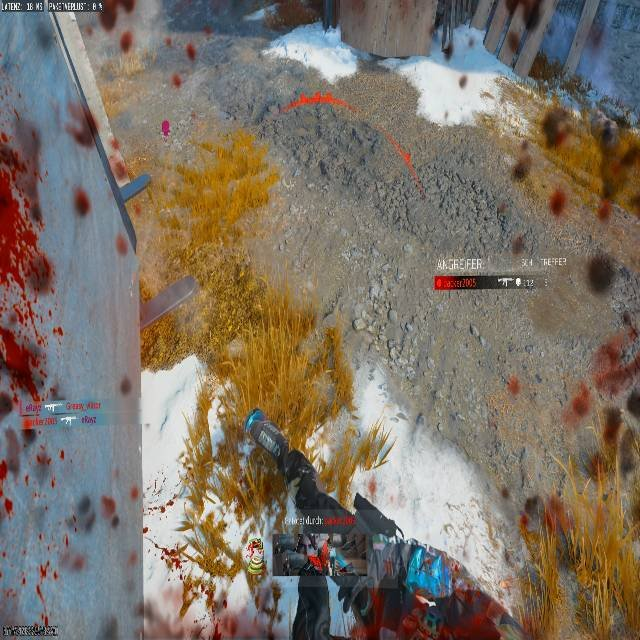head: (539, 104, 575, 148)
player: (537, 103, 608, 217)
